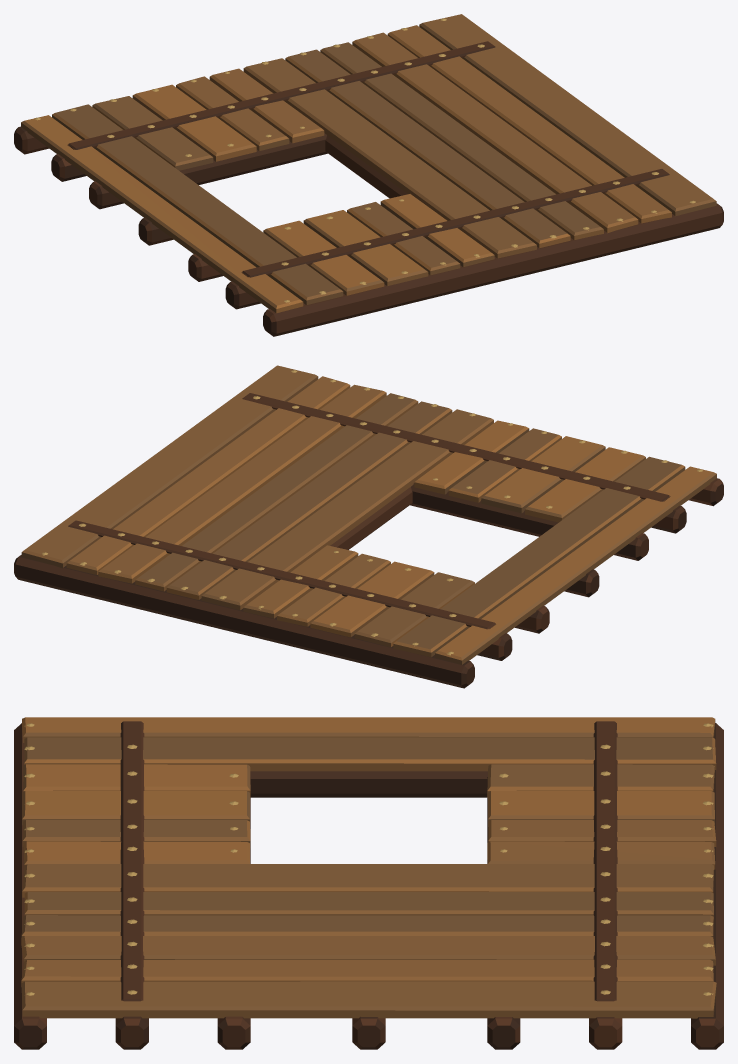
Rendered from recessed-storey-deck-fe19ec.glb.
3 renders of one model, top to bottom at view 1: azimuth 30°, elevation 25°; view 2: azimuth 150°, elevation 25°; view 3: azimuth 270°, elevation 25°, orthographic. The views are drawn at different scales.
Visible parts, largest first — view 1: deck; view 2: deck; view 3: deck.
Part boxes in pixels (x1=…): deck: x1=14, y1=14, x2=723, y2=336; deck: x1=14, y1=365, x2=723, y2=688; deck: x1=14, y1=717, x2=723, y2=1049.
Bounding box in the file's own units: 3 × 0.2 × 3.
